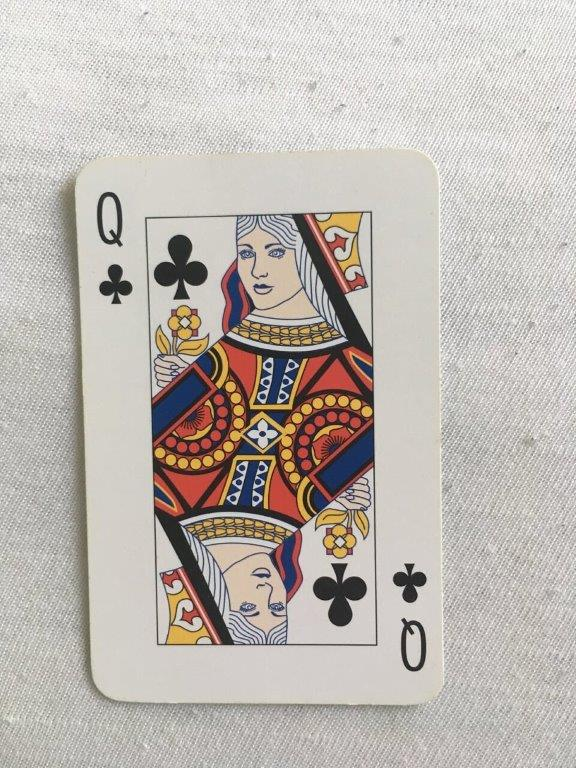QC: (70, 146, 451, 711)
